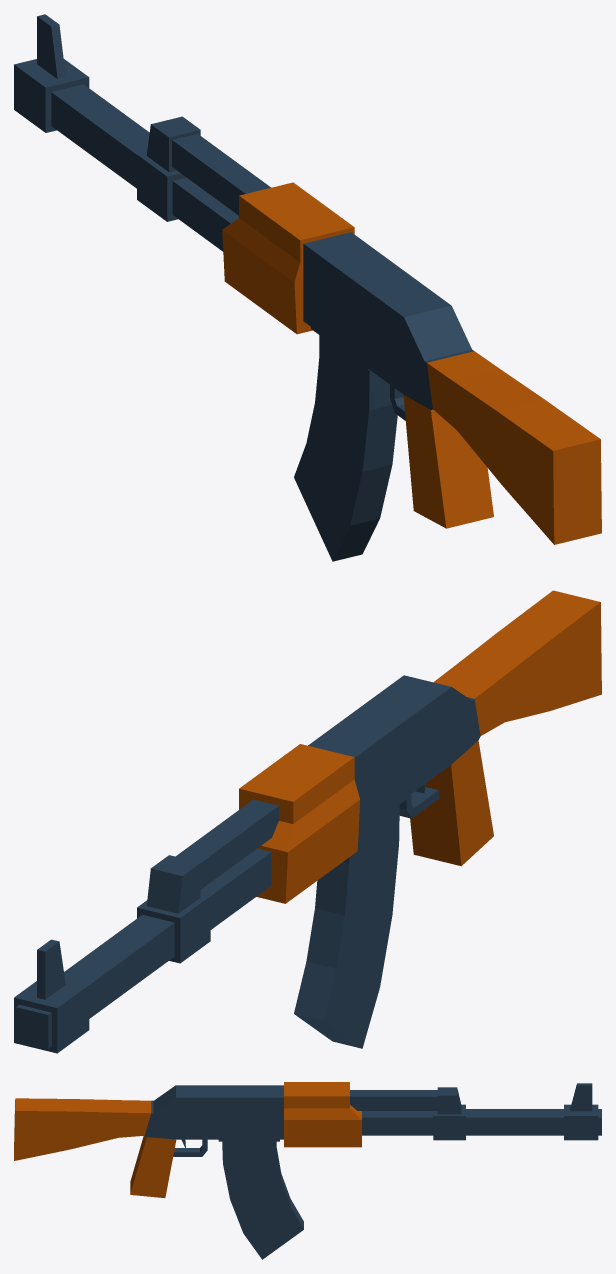
File: weapon_ak.fbx
3 renders of one model, top to bottom at view 1: azimuth 30°, elevation 25°; view 2: azimuth 150°, elevation 25°; view 3: azimuth 270°, elevation 25°, orthographic. The views are drawn at different scales.
Parts seen in each view (by area): view 1: Cube; view 2: Cube; view 3: Cube.
Boxes of the visible parts, x1,y1,x2,y2 form: Cube: [14, 14, 601, 561]; Cube: [14, 590, 601, 1053]; Cube: [14, 1082, 601, 1259].
Size of the model in its own units: 13.77 by 63.78 by 198.
